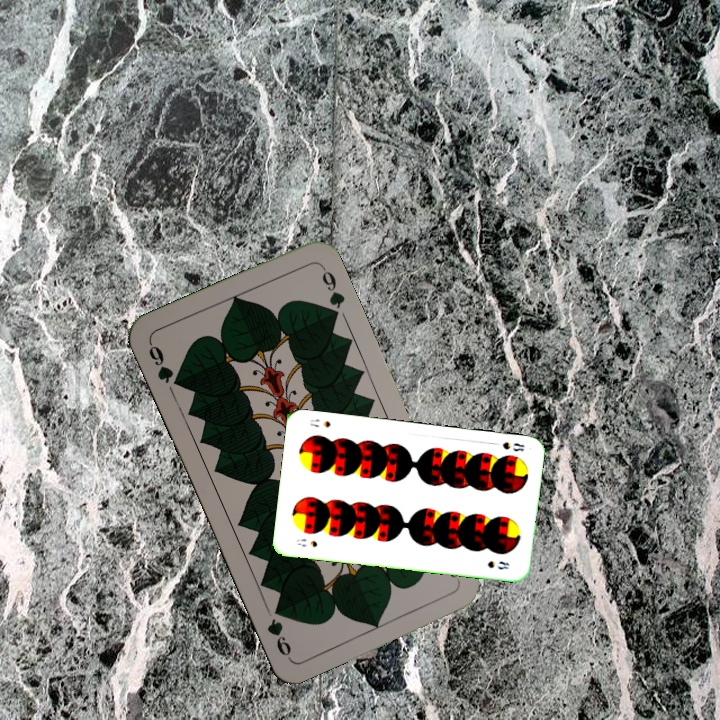G9: (144, 338, 185, 390)
S8: (499, 438, 527, 454), (293, 535, 320, 550)
